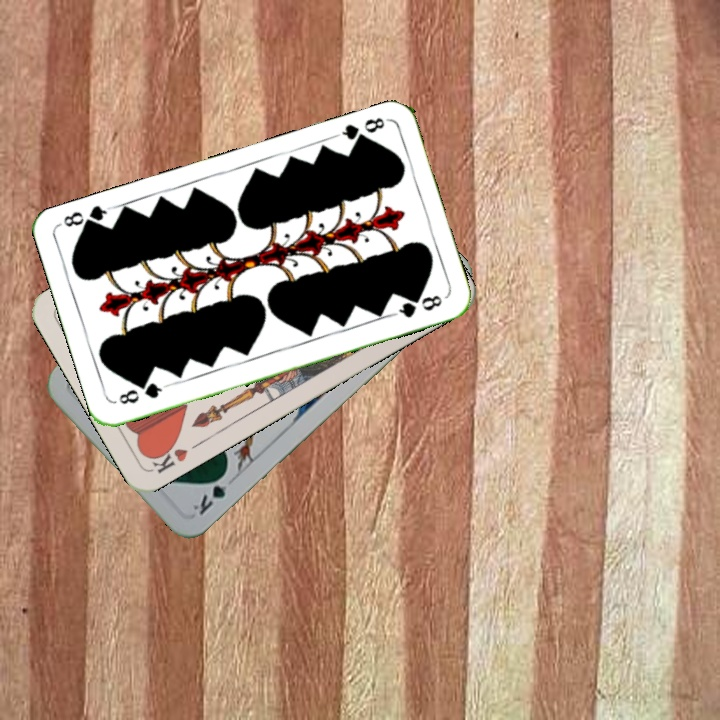G8: (332, 113, 390, 148), (114, 379, 170, 407)
GK: (188, 467, 238, 518)
HK: (144, 437, 202, 476)
